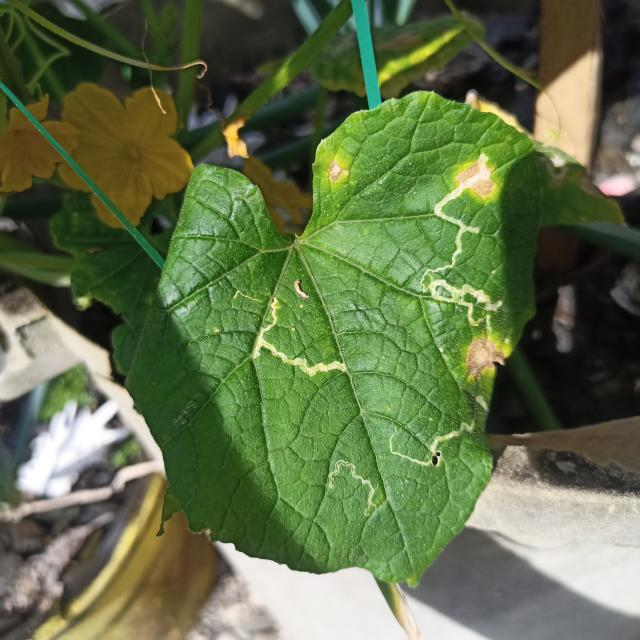disease_cucumber: (462, 332, 512, 386), (458, 161, 498, 201), (328, 161, 349, 186)
